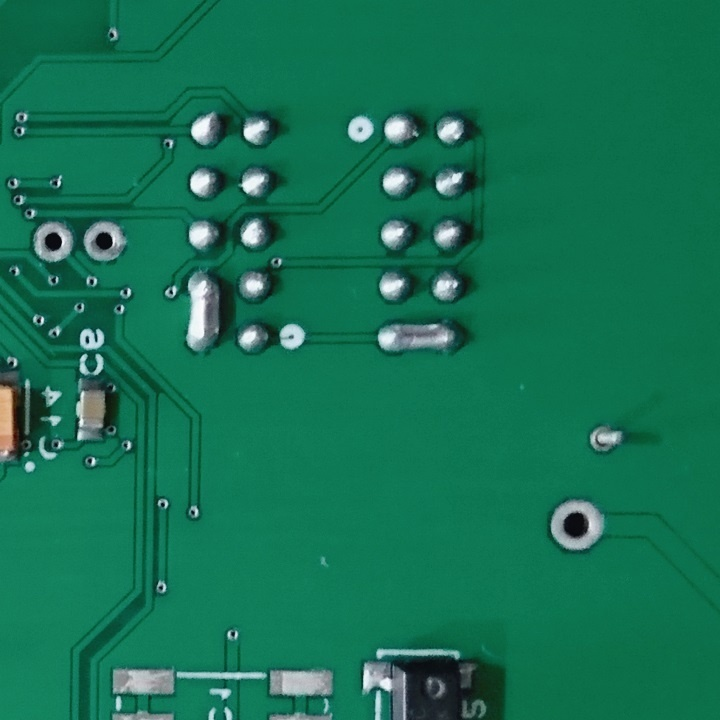F: (546, 495, 607, 557), (79, 220, 130, 267), (30, 218, 76, 266), (586, 421, 630, 458)
P: (373, 316, 468, 360), (184, 269, 224, 360)
